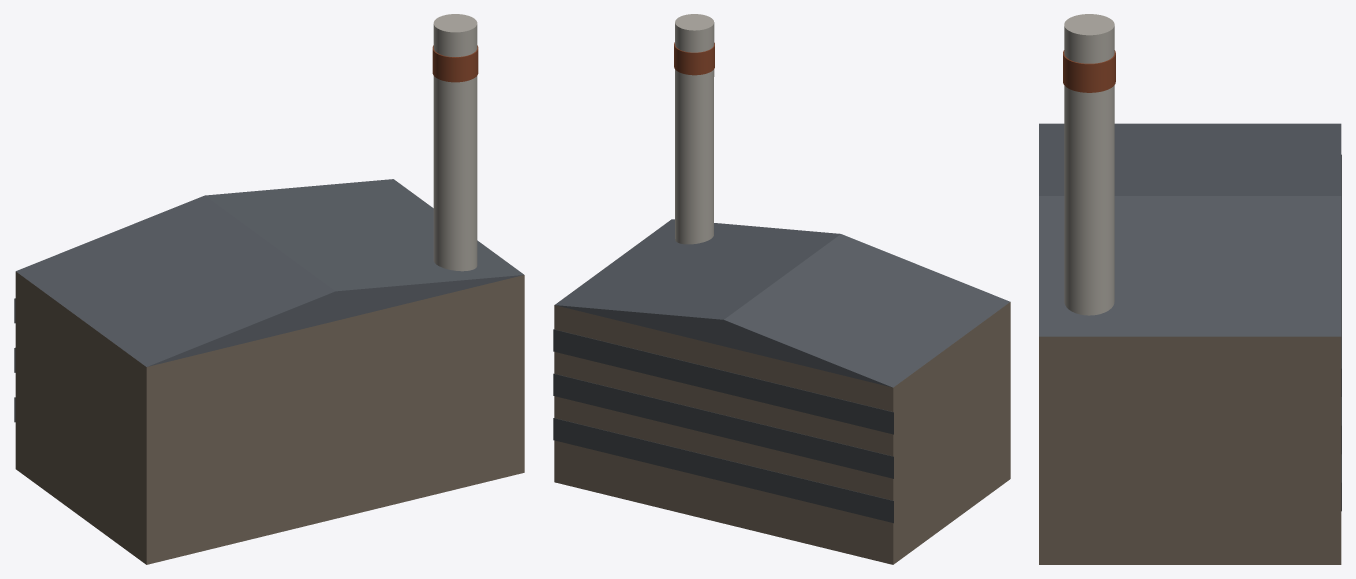
Rendered from g09-power-station-stack.glb.
3 views of the same model, side by side, from view 1: azimuth 30°, elevation 25°; view 2: azimuth 150°, elevation 25°; view 3: azimuth 270°, elevation 25° (orthographic). The views are drawn at different scales.
Visible parts, largest first — view 1: part0, part1, part5, part6; view 2: part0, part1, part5, part2, part3, part4, part6; view 3: part0, part1, part5, part6.
Part boxes in pixels (<box>): part0: <box>15,271,524,564</box>; part1: <box>16,179,523,366</box>; part5: <box>433,14,477,271</box>; part6: <box>432,45,478,82</box>; part0: <box>554,302,1010,564</box>; part1: <box>555,219,1010,387</box>; part5: <box>675,14,714,244</box>; part2: <box>553,418,893,523</box>; part3: <box>553,373,893,478</box>; part4: <box>553,329,893,434</box>; part6: <box>674,42,714,75</box>; part0: <box>1039,336,1341,564</box>; part1: <box>1039,123,1341,336</box>; part5: <box>1064,14,1114,315</box>; part6: <box>1063,50,1115,92</box>.
Bounding box in the file's own units: 40200 × 45002 × 24051.
